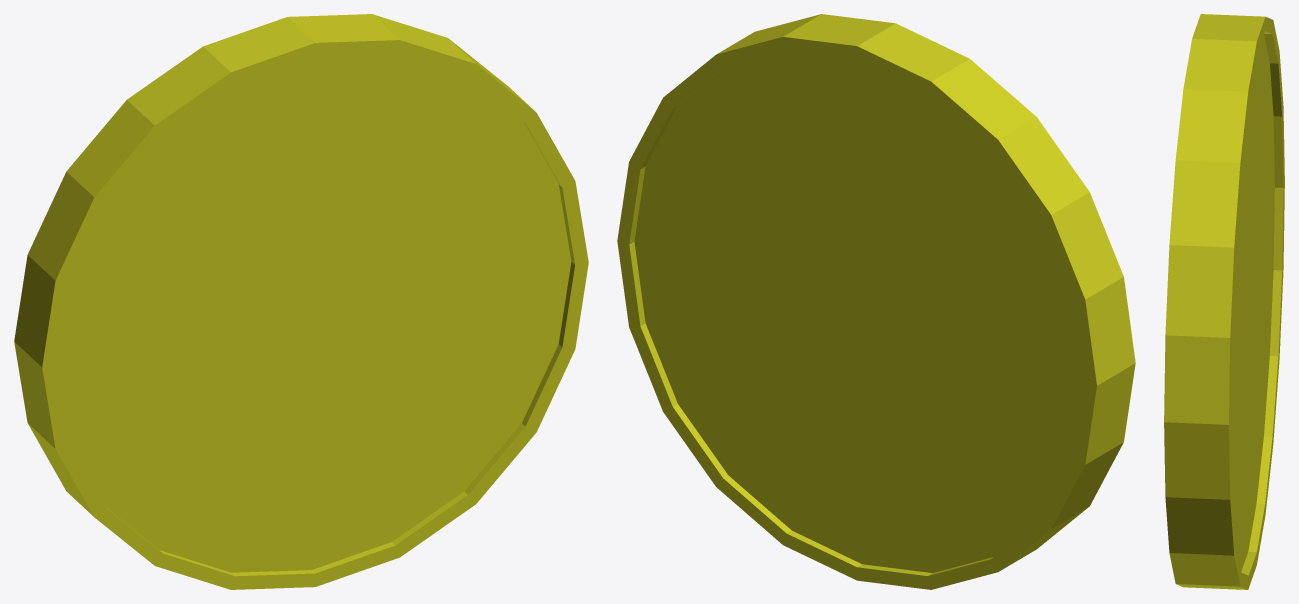
Rendered from Low Poly Coin_000079.obj.
The picture shows the model from 3 angles, left to right: view 1: azimuth 30°, elevation 25°; view 2: azimuth 150°, elevation 25°; view 3: azimuth 270°, elevation 25°; orthographic projection. The views are drawn at different scales.
Visible parts, largest first — view 1: Cylinder; view 2: Cylinder; view 3: Cylinder.
Boxes of the visible parts, x1,y1,x2,y2 form: Cylinder: (14, 14, 588, 589); Cylinder: (617, 14, 1135, 589); Cylinder: (1164, 14, 1284, 589).
Size of the model in its own units: 2.01 by 2 by 0.4183.
